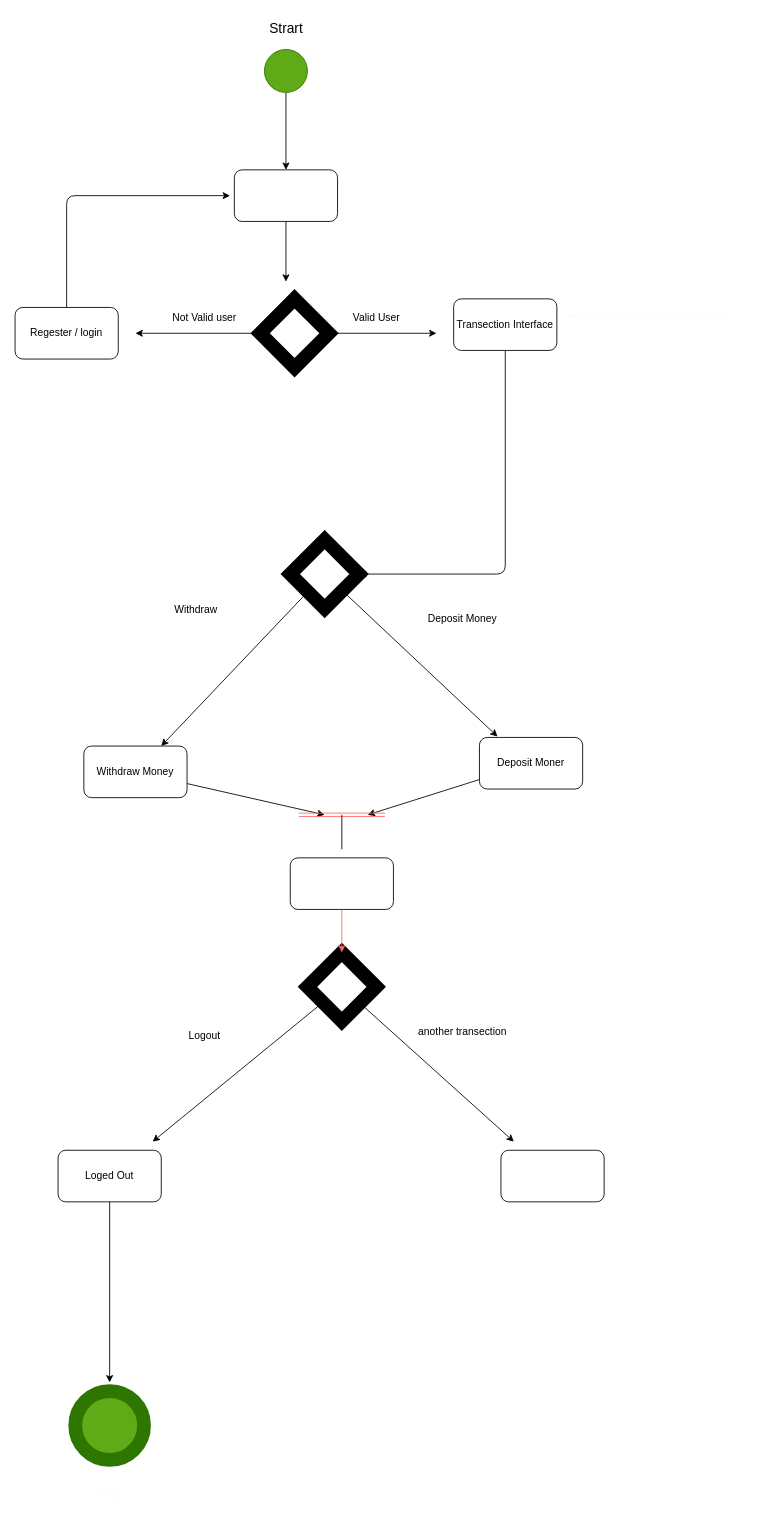
Some shapes in this 759 by 1526 pixel diagram are drawn without their labels. Each missing label, with the box of its shape:
Enter Login Details/ Regester user: (233, 169, 338, 221)
Generate Slip: (289, 857, 393, 909)
Make another transection: (500, 1149, 604, 1202)
